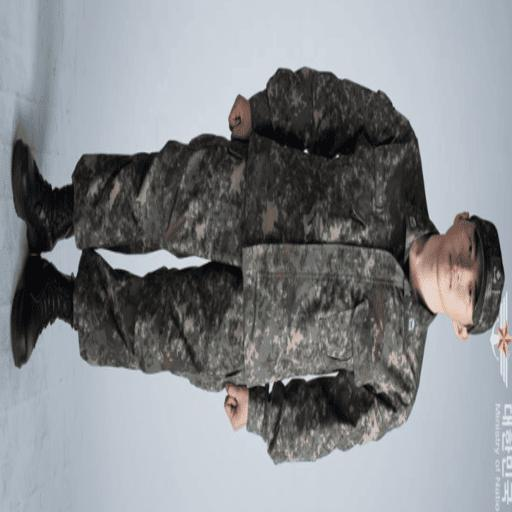korea army: (8, 65, 505, 464)
